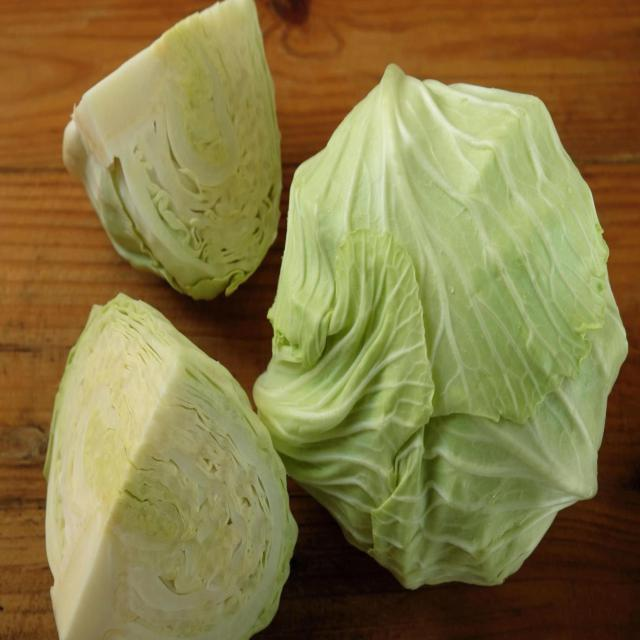cabbage: (248, 51, 634, 596), (41, 286, 307, 639), (57, 1, 288, 323)
